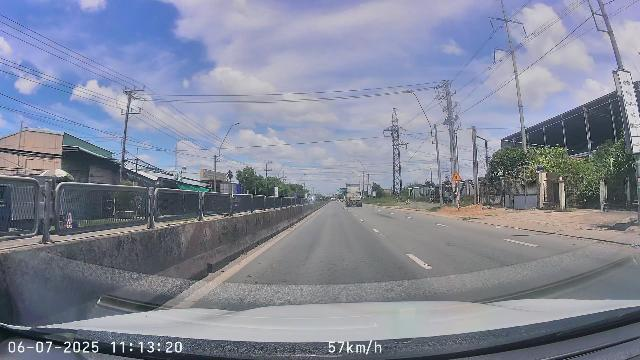207-giao-nhau-voi-duong-khong-uu-tien: (451, 172, 462, 181)
